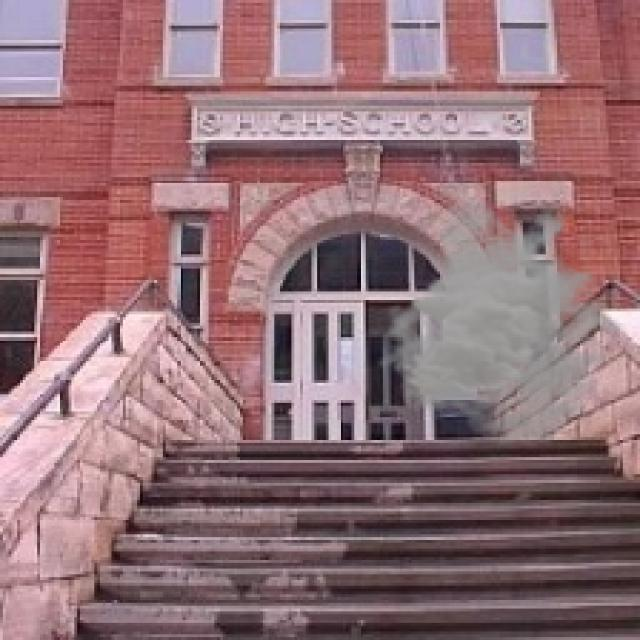Smoke: (374, 197, 634, 449)
